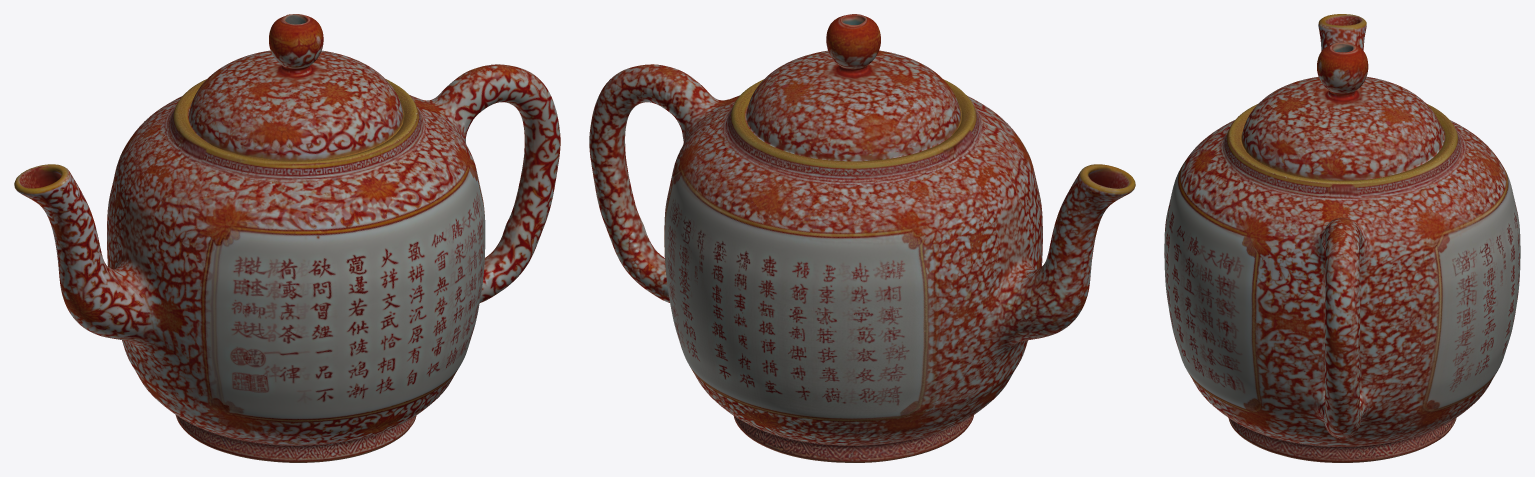
The model's file is 白地矾红彩题“荷露烹茶”诗茶器.glb.
3 renders of one model, left to right at view 1: azimuth 30°, elevation 25°; view 2: azimuth 150°, elevation 25°; view 3: azimuth 270°, elevation 25°, orthographic. The views are drawn at different scales.
Visible parts, largest first — view 1: tripo_node_34b0bb2d; view 2: tripo_node_34b0bb2d; view 3: tripo_node_34b0bb2d.
Part boxes in pixels (x1,y1,x2,y2): tripo_node_34b0bb2d: [14, 14, 560, 462]; tripo_node_34b0bb2d: [589, 14, 1135, 462]; tripo_node_34b0bb2d: [1164, 14, 1520, 462].
Bounding box in the file's own units: 97.96 × 68.19 × 59.63.
1 material, 1 textured.
